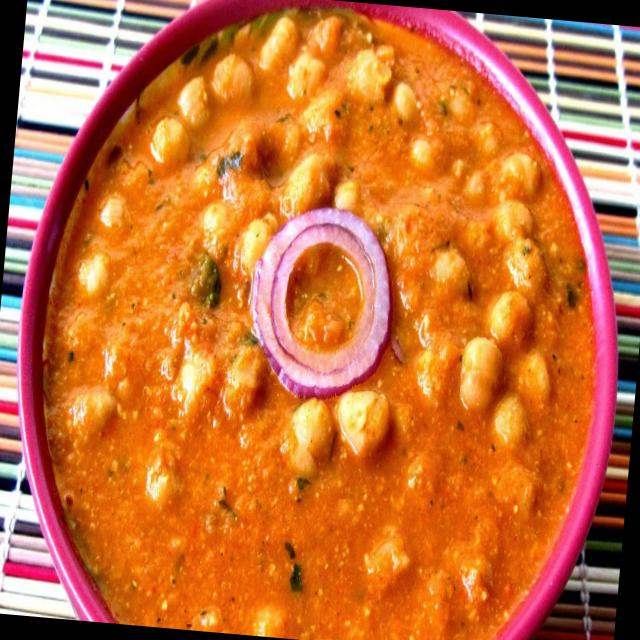Chole: (20, 0, 625, 640)
